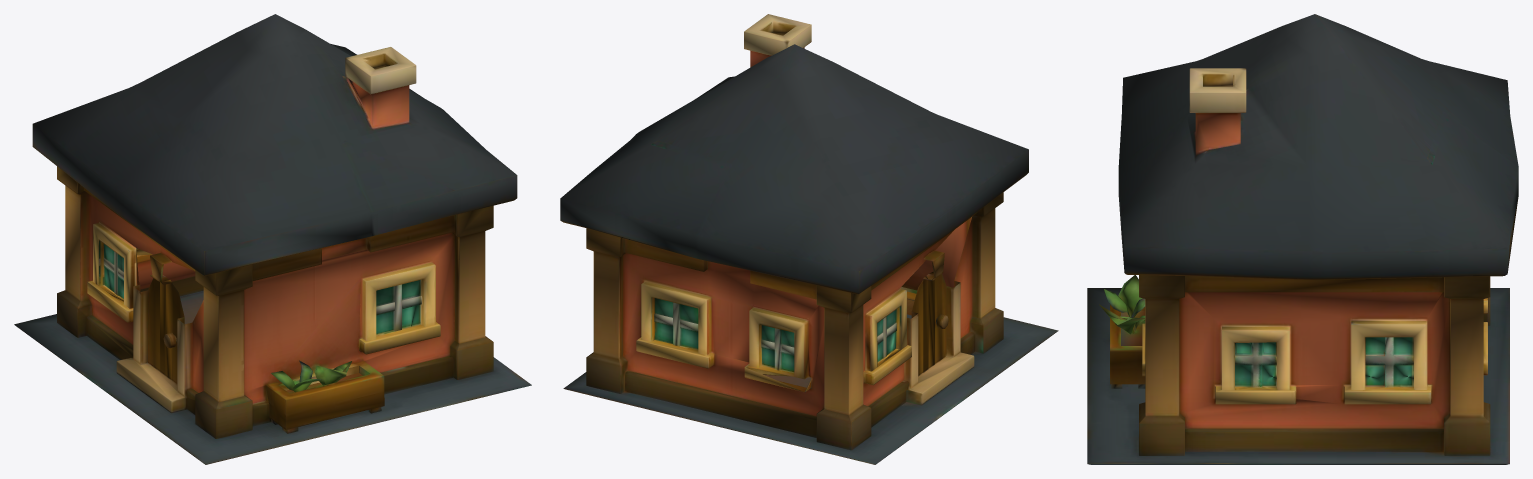
File: glb-2-1024-webp.glb
3 renders of one model, left to right at view 1: azimuth 30°, elevation 25°; view 2: azimuth 150°, elevation 25°; view 3: azimuth 270°, elevation 25°, orthographic. The views are drawn at different scales.
Visible parts, largest first — view 1: material; view 2: material; view 3: material.
Part boxes in pixels (<box>): material: <box>14,14,531,464</box>; material: <box>560,14,1058,464</box>; material: <box>1087,14,1518,464</box>.
Bounding box in the file's own units: 1.9 × 1.8 × 1.9.
1 material, 1 textured.
